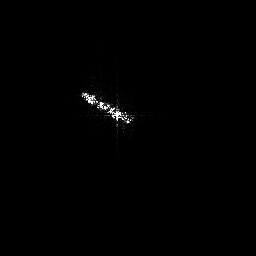ship: (80, 88, 137, 134)
